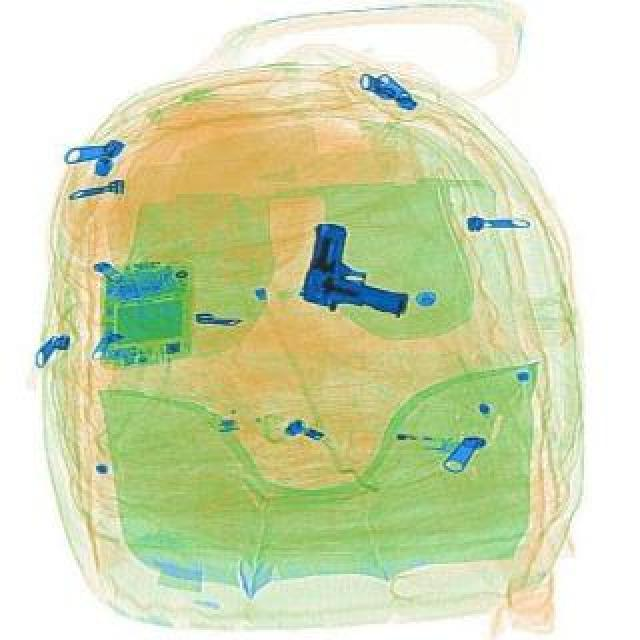gun: (292, 222, 422, 330)
